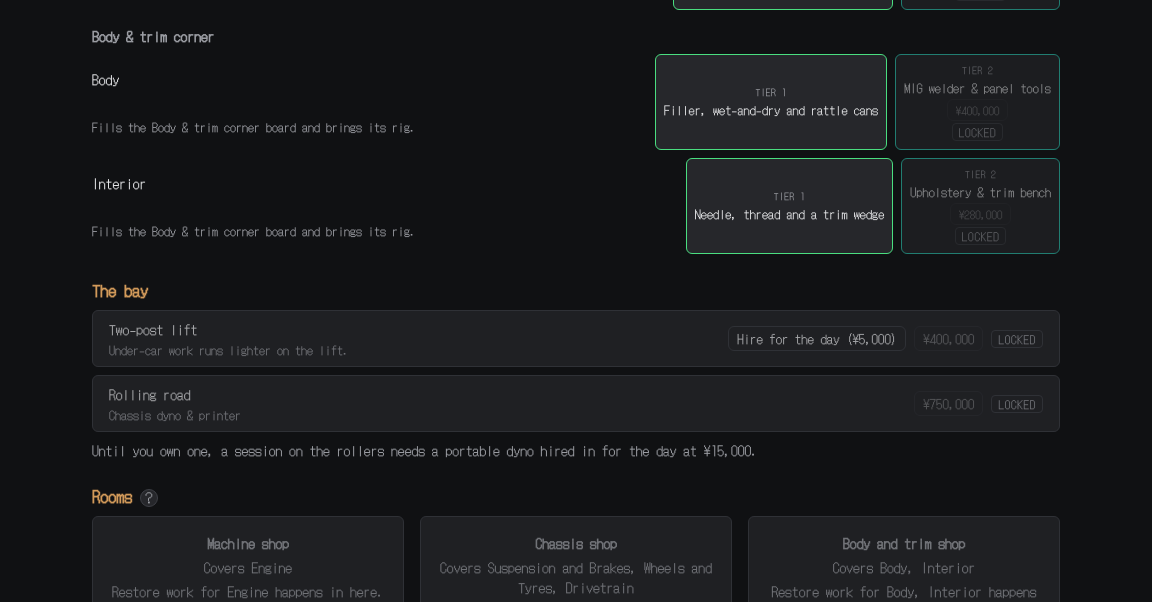
UpgradesScreen › the lift row hires through hireLift
(page scrolled)
What coordinates should you click on to do the following:
click the button with test id "hire-lift-upgrades"
I would click on:
 (817, 339)
Its box is x1=728 y1=326 x2=906 y2=351.
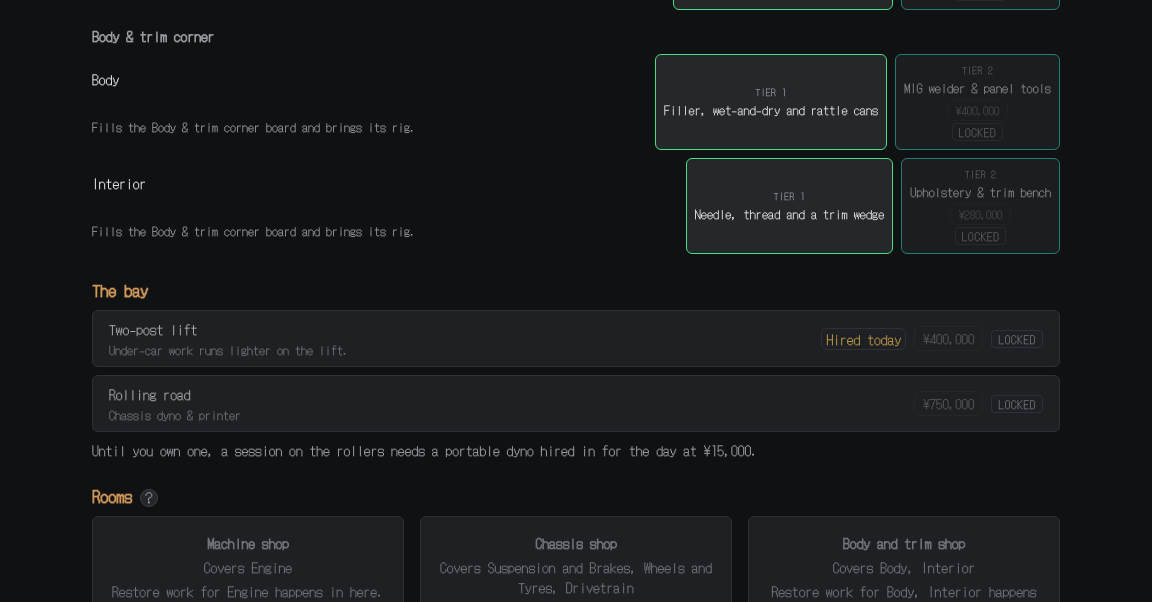
Check: the text with test id "lift-chip" reads "Hired today", box x1=826 y1=329 x2=901 y2=349
